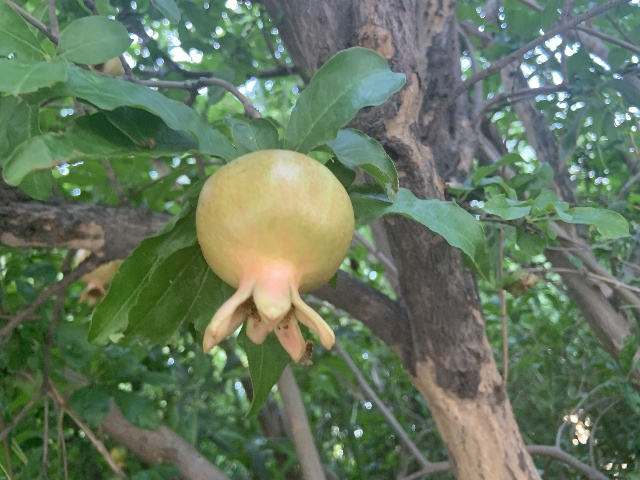mid-growth: (194, 149, 354, 363)
